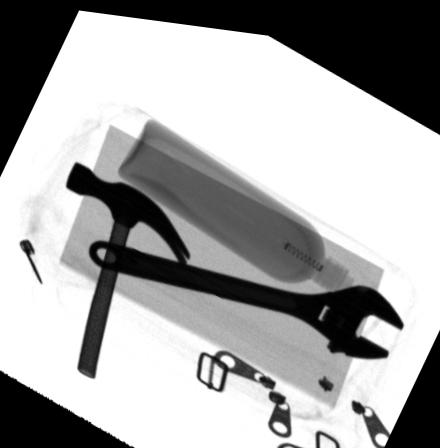Hammer: (63, 158, 192, 378)
Wrench: (86, 235, 406, 351)
